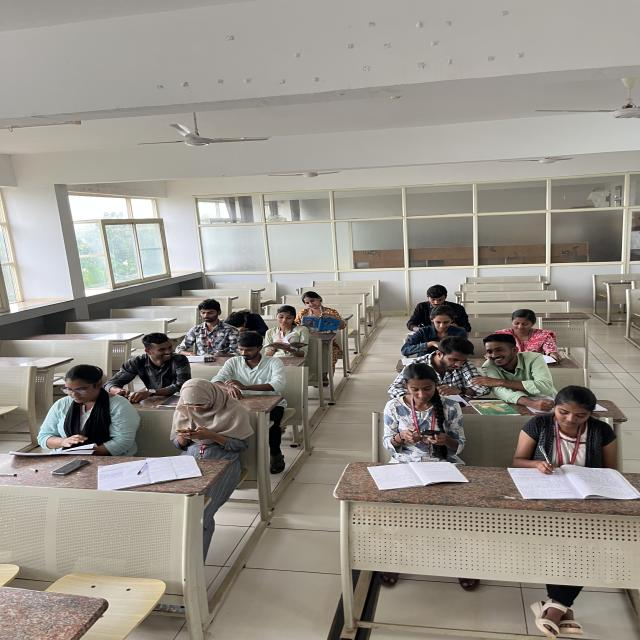Reading: (501, 306, 562, 360), (298, 290, 342, 341), (267, 303, 309, 353)
Sleeping: (226, 304, 270, 335)
Using Phone: (383, 366, 460, 454), (170, 374, 248, 449), (109, 328, 190, 399)
Writing: (514, 382, 620, 492)
